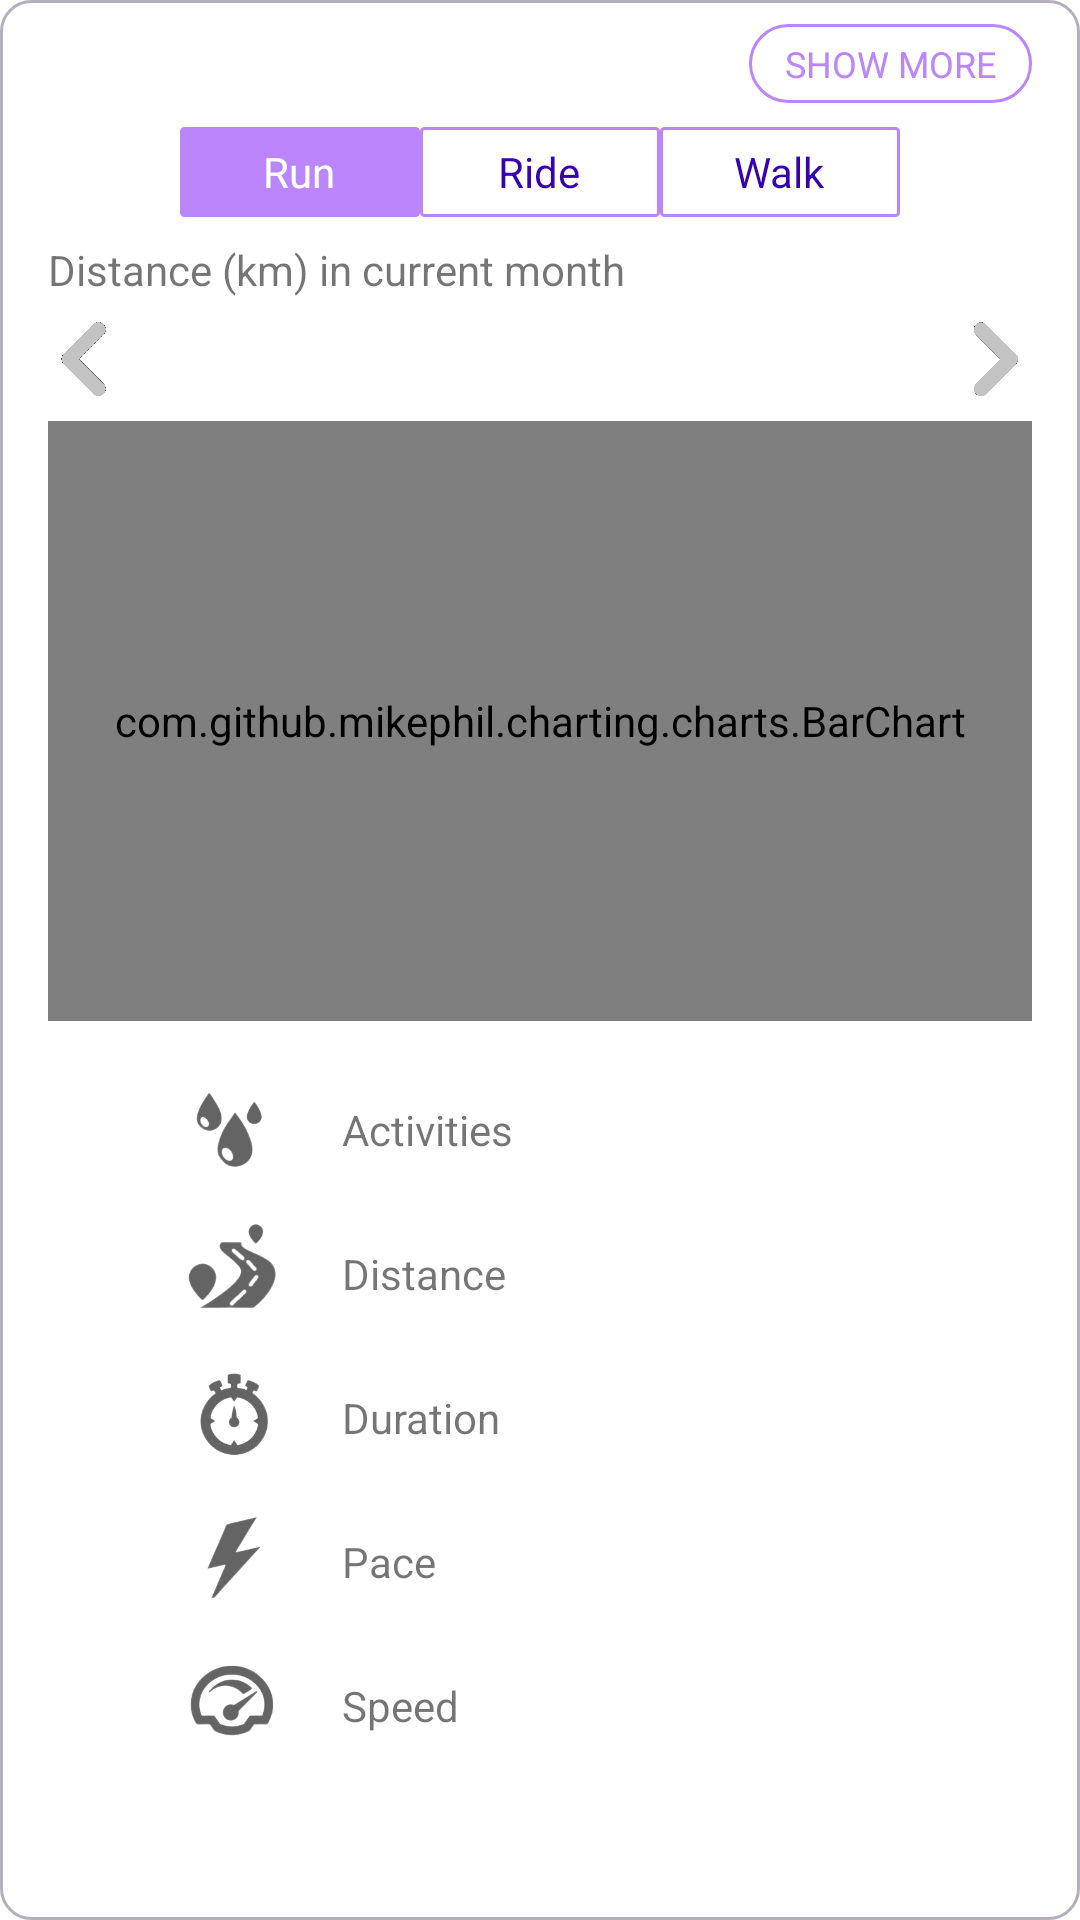

Point at icon controls on the screen. Image size 1080w x 1920h, points as [x,y].
left arrow: [83,359]
right arrow: [996,359]
